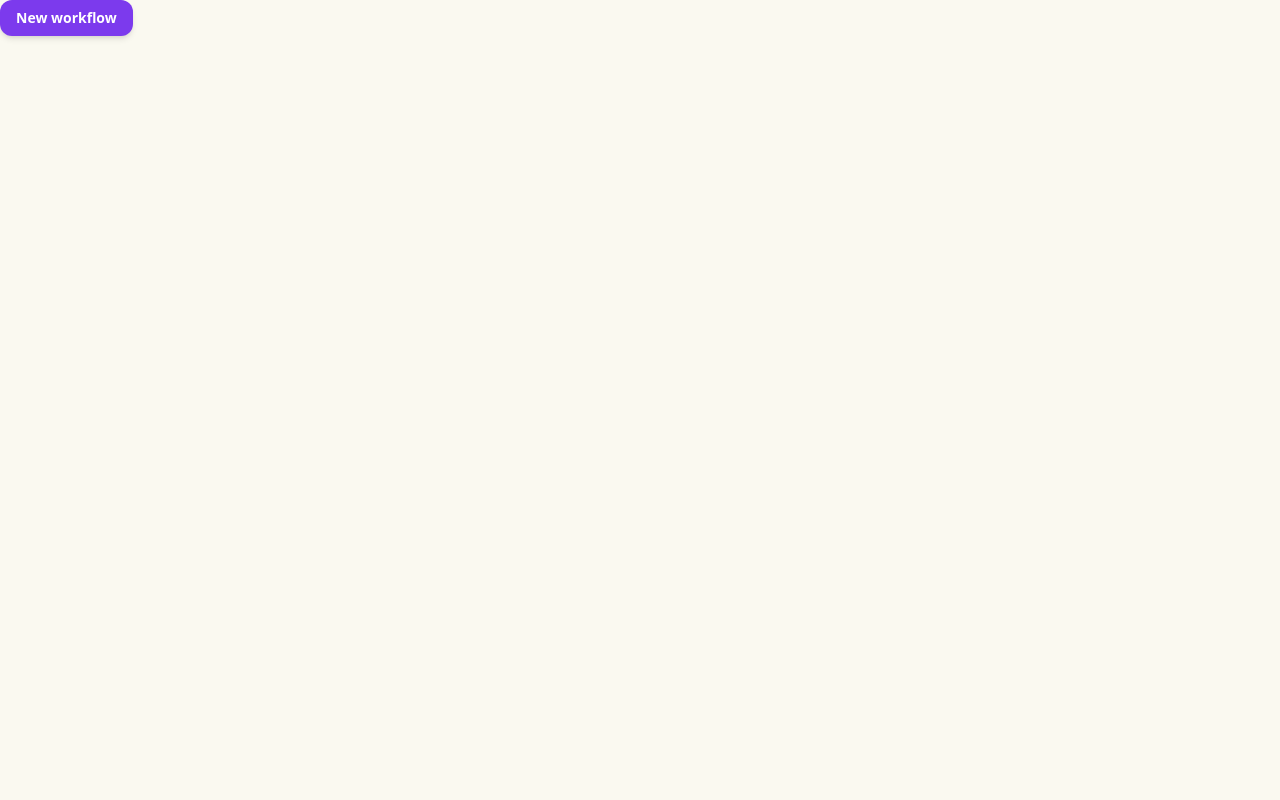
Scenario: CRM creation forms › shows backend failures without silently reporting success
The width and height of the screenshot is (1280, 800).
Click the button "New workflow".
click(66, 18)  # box 0,0 -> 133,36
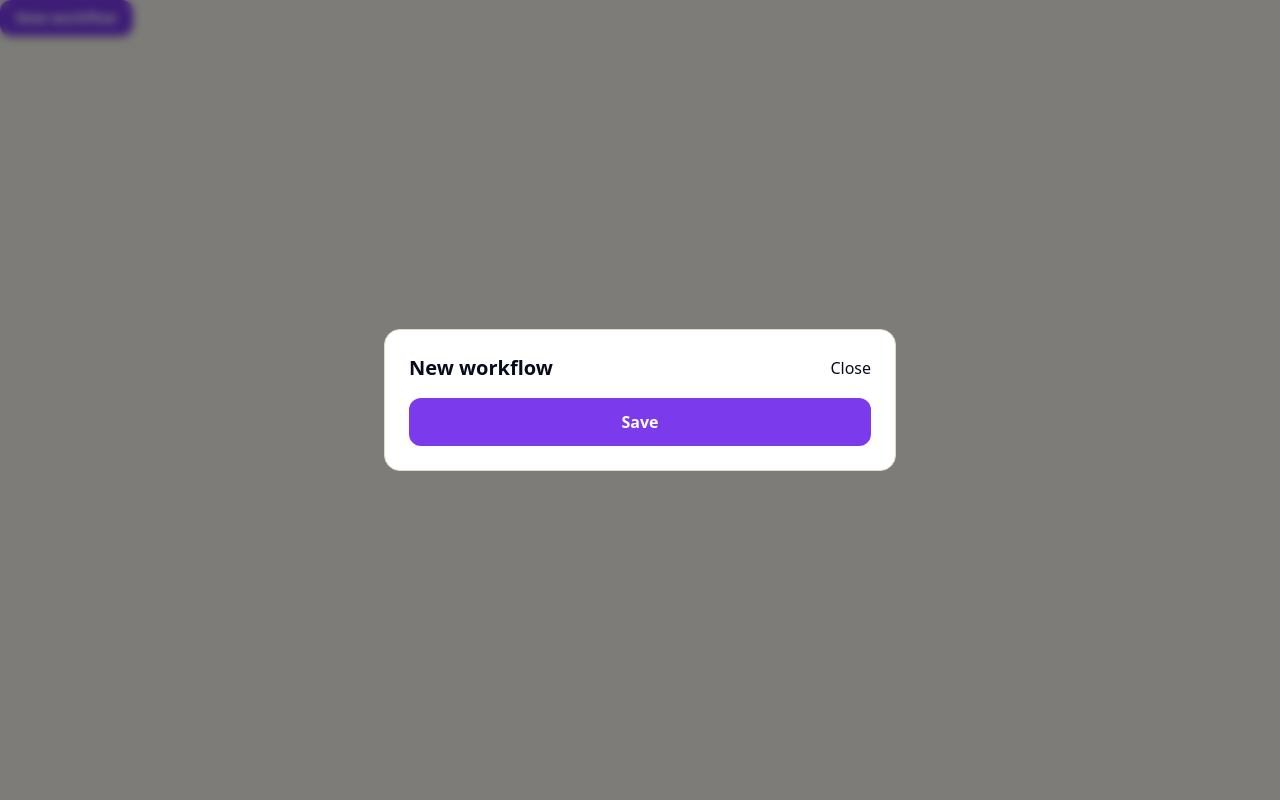
Submit the form, box 384,329 -> 896,471
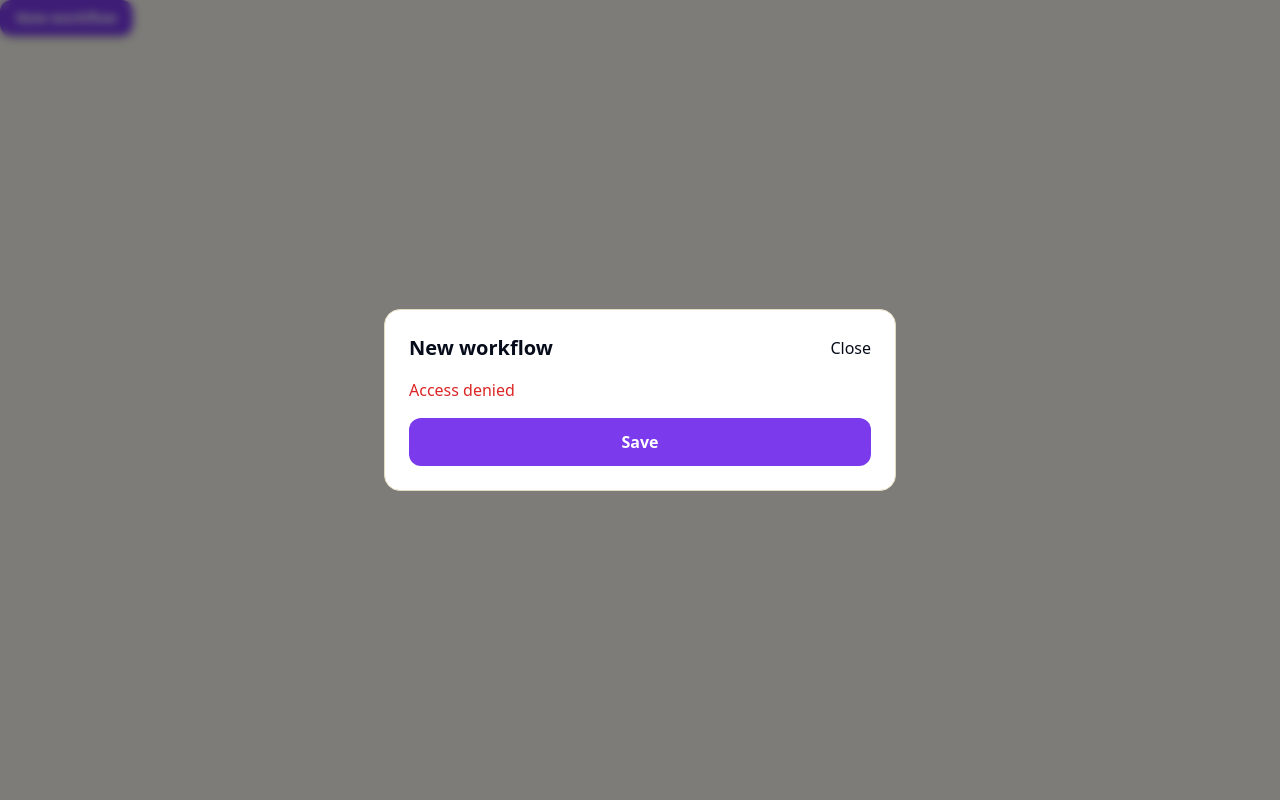
Expected: the form is shown, 384,309 -> 896,491
Expected: the message reads "Access denied", 409,379 -> 515,401
